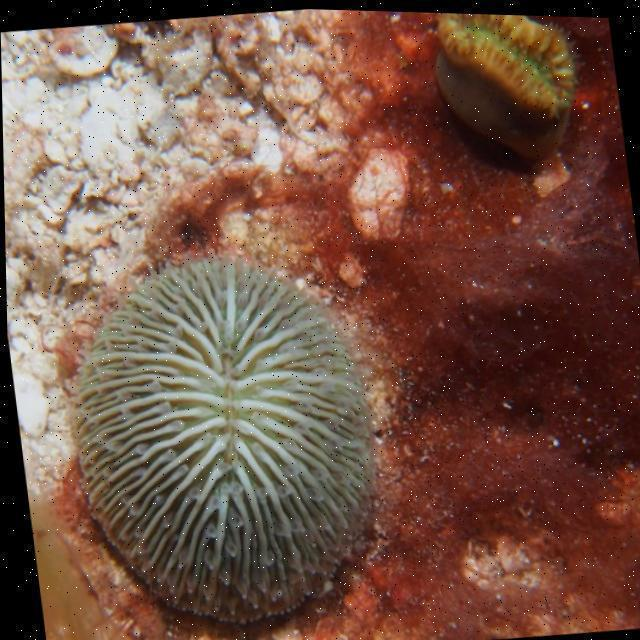Healthy Coral: (40, 235, 396, 640), (402, 9, 599, 173)
